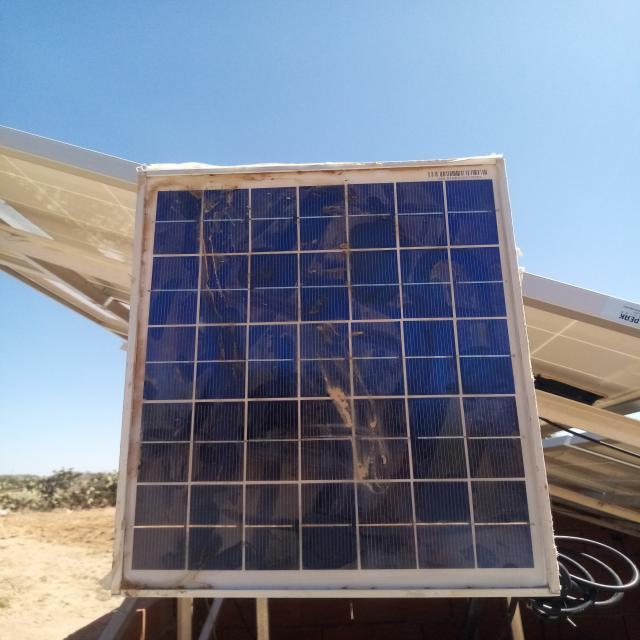faulty: (117, 160, 558, 595)
